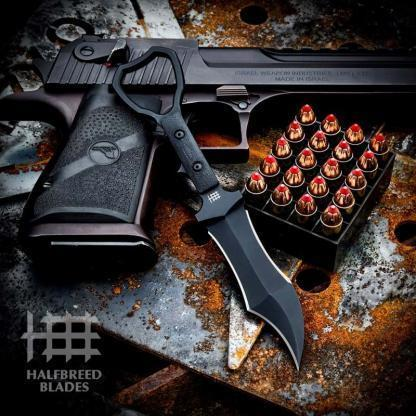Knife: (110, 46, 307, 373)
Pistol: (2, 32, 416, 274)
